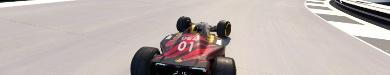Car: (129, 16, 236, 74)
Solid White and black: (303, 0, 389, 73)
